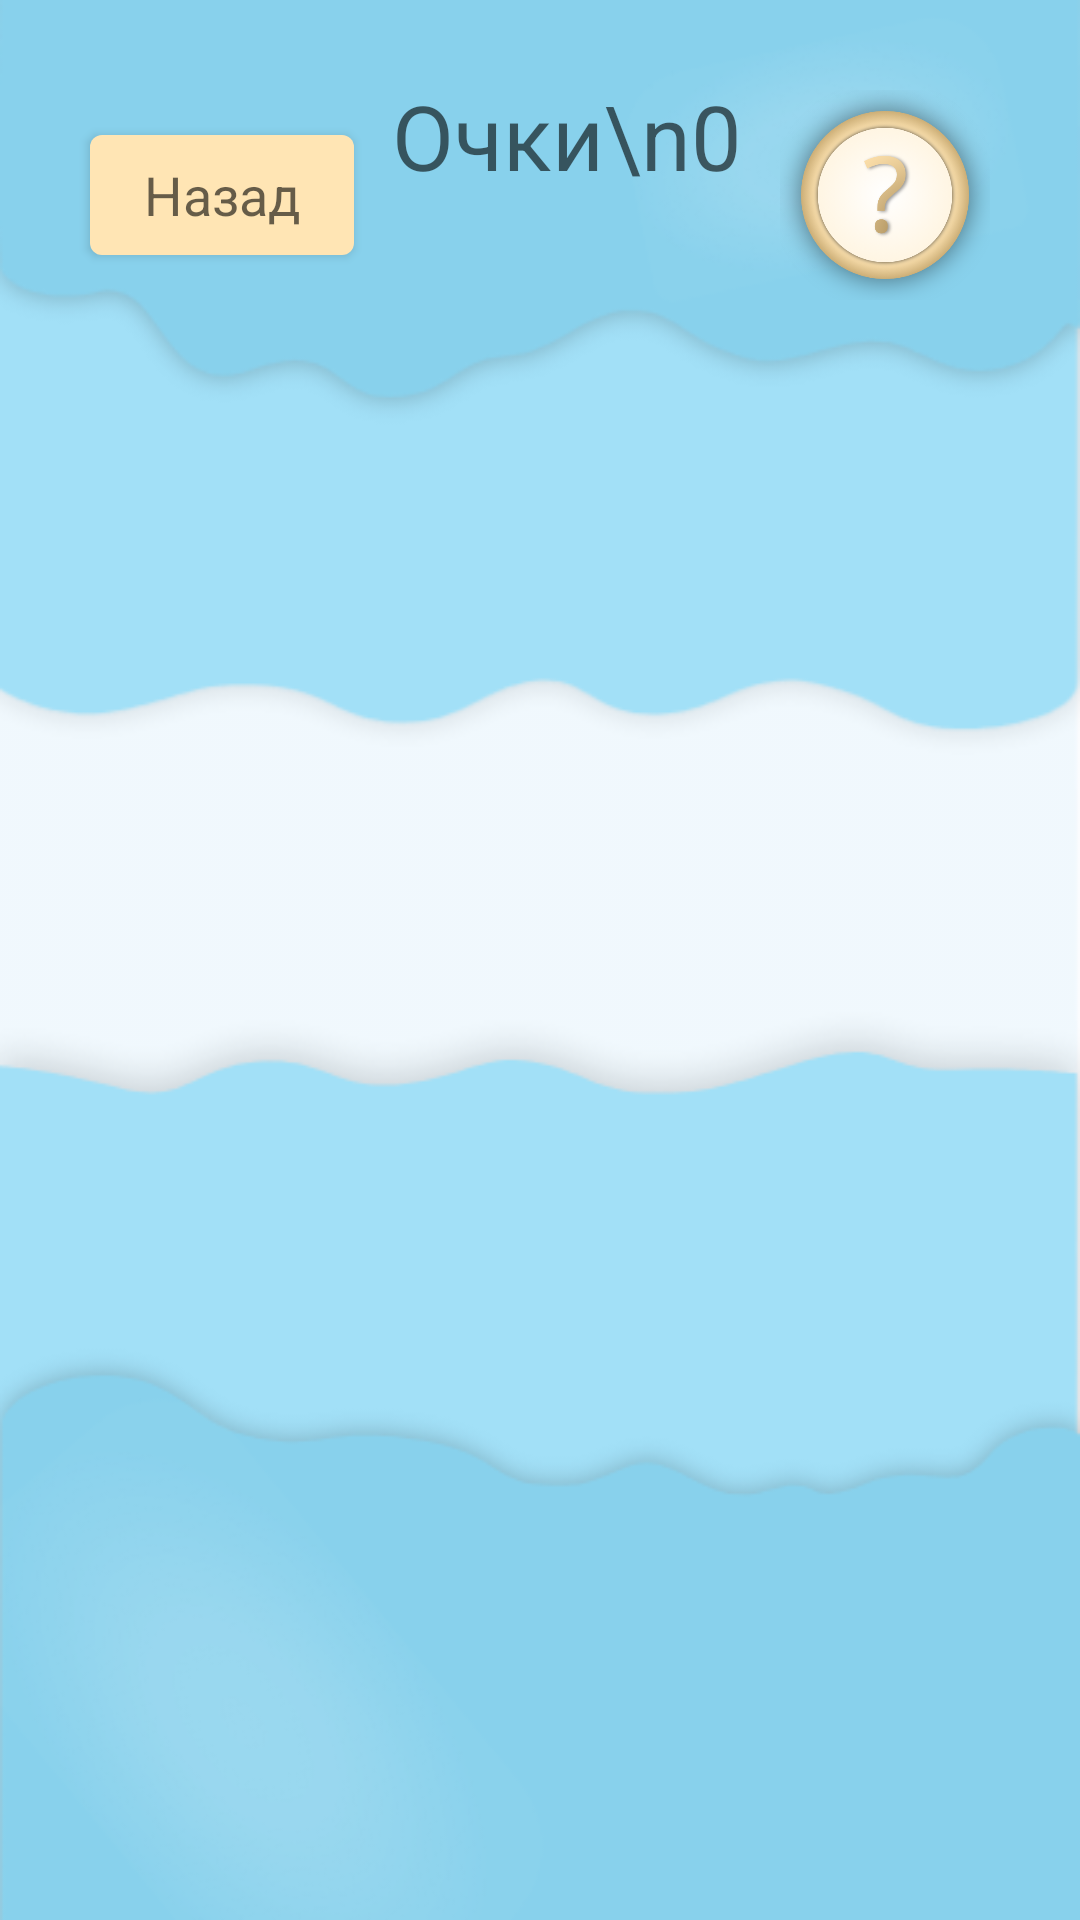

Where icons sit on this 1080x1920 app screen, as (x1, y1, x2, y2):
rules: (792, 101, 980, 289)
